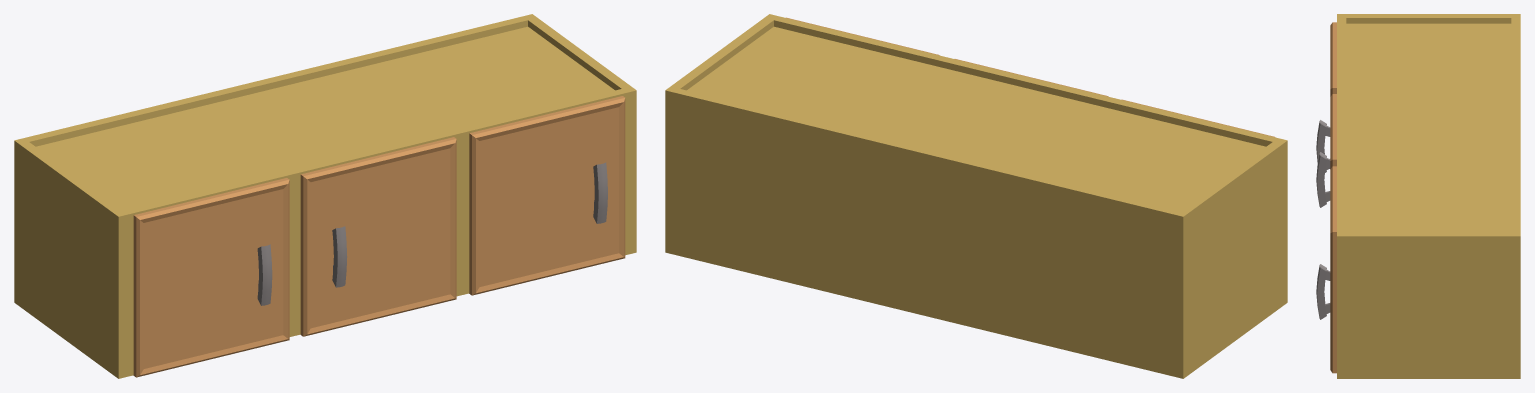
Rendered from Cupboards.fbx.
3 renders of one model, left to right at view 1: azimuth 30°, elevation 25°; view 2: azimuth 150°, elevation 25°; view 3: azimuth 270°, elevation 25°, orthographic. The views are drawn at different scales.
Parts seen in each view (by area): view 1: pCube4, pasted__pasted__pCube5, pCube5, pasted__pCube5, pasted__pasted__pCube6, pasted__pCube6, pCube6; view 2: pCube4; view 3: pCube4, pasted__pasted__pCube5, pasted__pCube6, pasted__pasted__pCube6, pasted__pCube5, pCube5, pCube6.
Boxes of the visible parts, box(x1,y1,x2,y2) form: pCube4: box(14, 14, 636, 378); pasted__pasted__pCube5: box(469, 96, 625, 295); pCube5: box(133, 178, 289, 377); pasted__pCube5: box(300, 137, 456, 336); pasted__pasted__pCube6: box(593, 162, 607, 223); pasted__pCube6: box(332, 226, 347, 287); pCube6: box(257, 244, 272, 305); pCube4: box(665, 14, 1287, 378); pCube4: box(1337, 14, 1520, 378); pasted__pasted__pCube5: box(1330, 166, 1336, 373); pasted__pCube6: box(1316, 152, 1330, 207); pasted__pasted__pCube6: box(1316, 264, 1330, 319); pasted__pCube5: box(1330, 94, 1336, 168); pCube5: box(1330, 22, 1336, 96); pCube6: box(1316, 120, 1330, 172).
Size of the model in its own units: 9.61 by 2.88 by 3.73.
